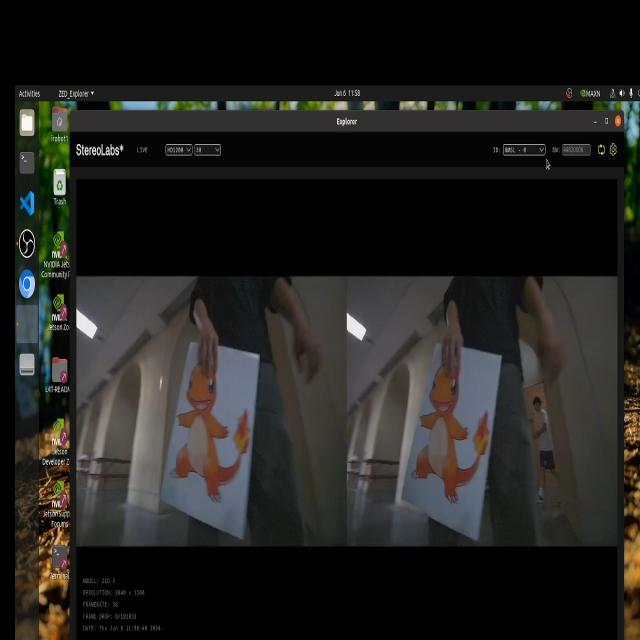red: (178, 348, 263, 510), (419, 349, 497, 515)
